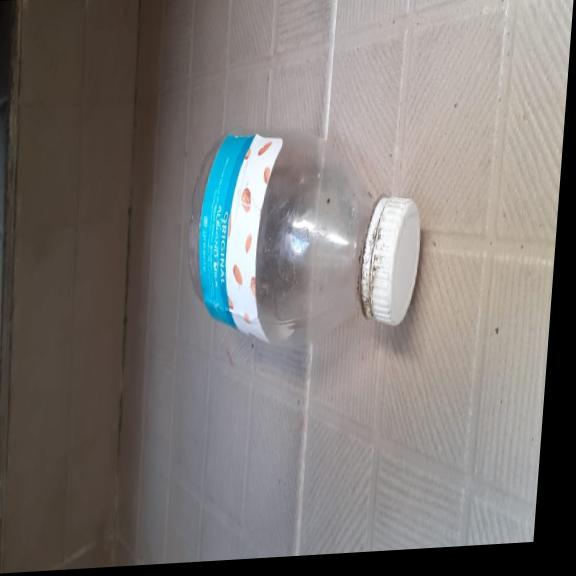Plastik: (176, 117, 431, 353)
